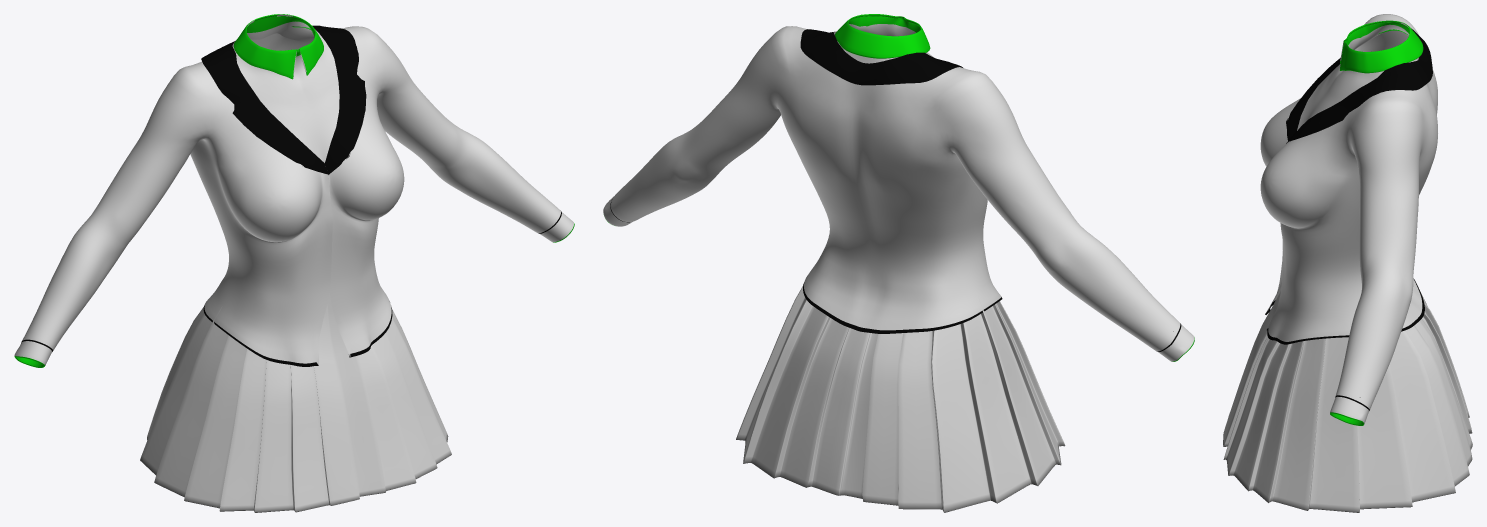
File: Yumeko_Uniform_v1.fbx
The picture shows the model from 3 angles, left to right: view 1: azimuth 30°, elevation 25°; view 2: azimuth 150°, elevation 25°; view 3: azimuth 270°, elevation 25°; orthographic projection. The views are drawn at different scales.
Visible parts, largest first — view 1: coat, polySurface4, shirt; view 2: coat, polySurface4, shirt; view 3: coat, polySurface4, shirt.
Boxes of the visible parts, bbox=[...] form: coat: bbox=[21, 25, 561, 366]; polySurface4: bbox=[140, 293, 451, 512]; shirt: bbox=[14, 14, 574, 367]; coat: bbox=[610, 26, 1181, 351]; polySurface4: bbox=[736, 285, 1065, 512]; shirt: bbox=[603, 14, 1194, 361]; coat: bbox=[1260, 14, 1437, 410]; polySurface4: bbox=[1223, 291, 1472, 512]; shirt: bbox=[1297, 20, 1423, 425].
Size of the model in its own units: 104 by 74.57 by 40.63.
